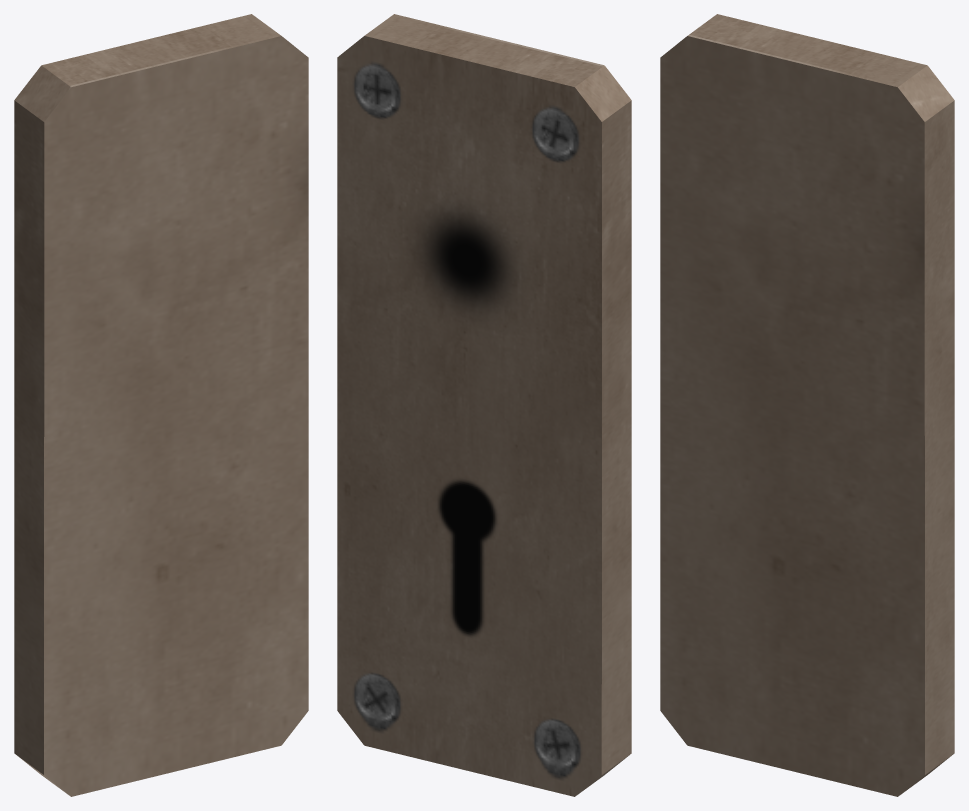
Rendered from DoorHandleBox.fbx.
3 renders of one model, left to right at view 1: azimuth 30°, elevation 25°; view 2: azimuth 150°, elevation 25°; view 3: azimuth 330°, elevation 25°, orthographic.
Parts seen in each view (by area): view 1: DoorHandleBox; view 2: DoorHandleBox; view 3: DoorHandleBox.
Boxes of the visible parts, x1=… form: DoorHandleBox: x1=14, y1=14, x2=308, y2=796; DoorHandleBox: x1=337, y1=14, x2=631, y2=796; DoorHandleBox: x1=660, y1=14, x2=954, y2=796.
Bounding box in the file's own units: 4.9 × 12.56 × 0.9606.
